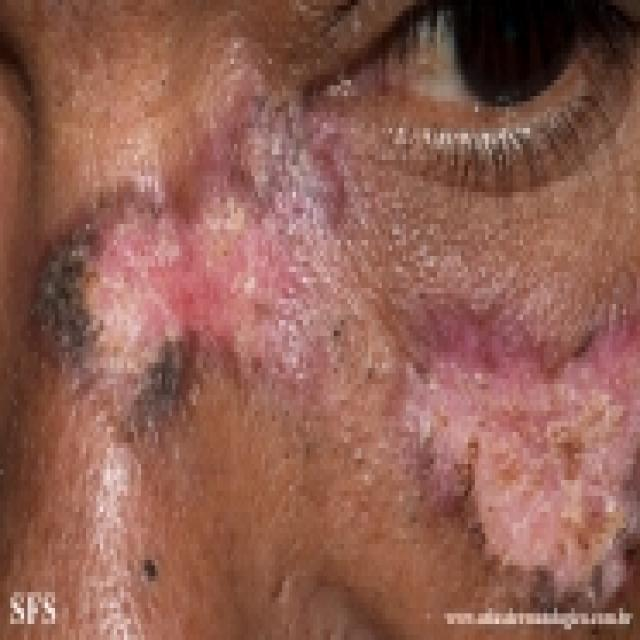lupus: (20, 86, 640, 596)
